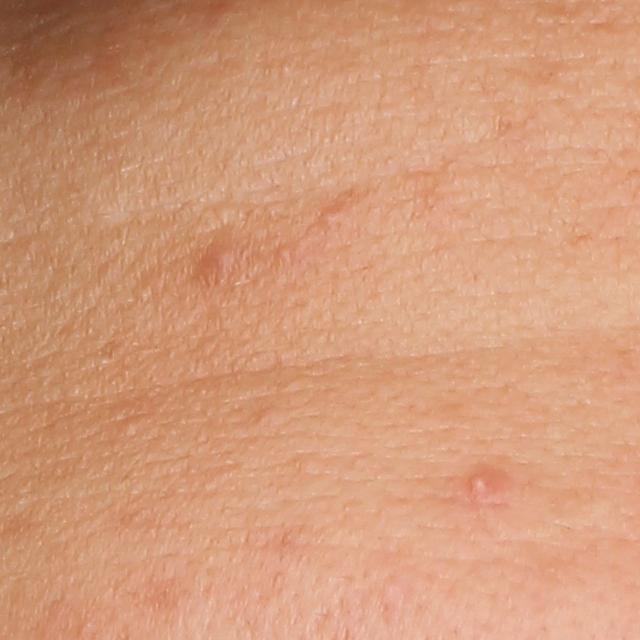comedo: (314, 202, 354, 230), (122, 420, 139, 440), (276, 243, 293, 262)
papule: (193, 231, 250, 284)
pustule: (455, 462, 512, 510)
